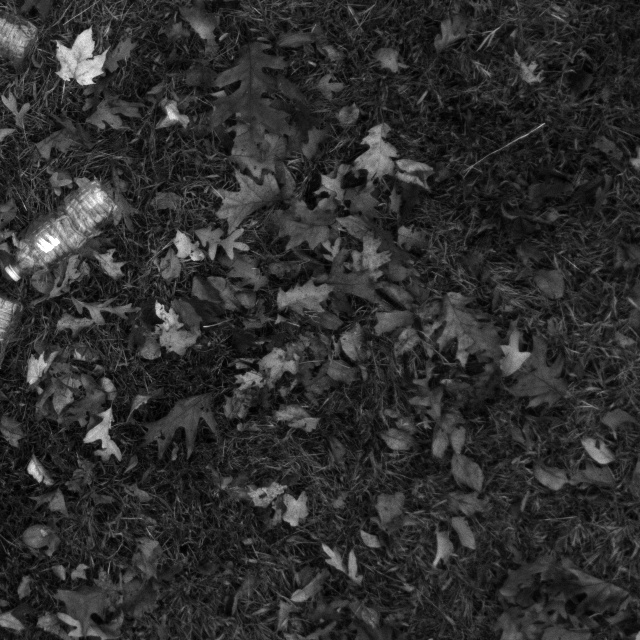bottle: (5, 176, 119, 283)
